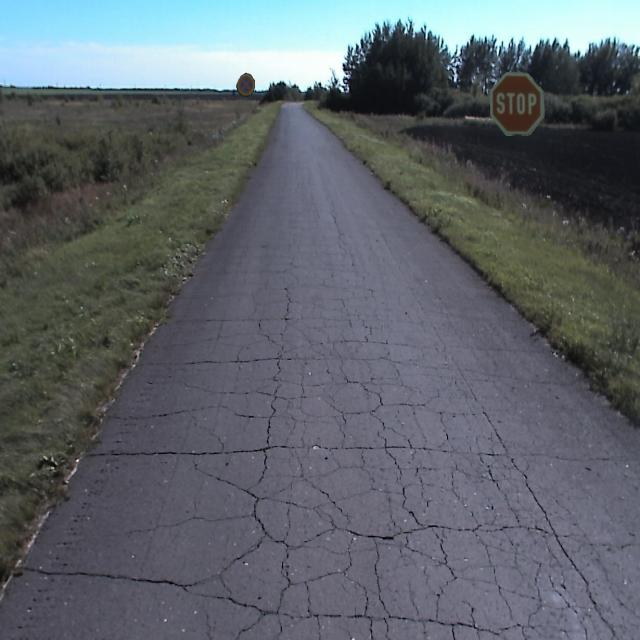road: (0, 103, 639, 639)
